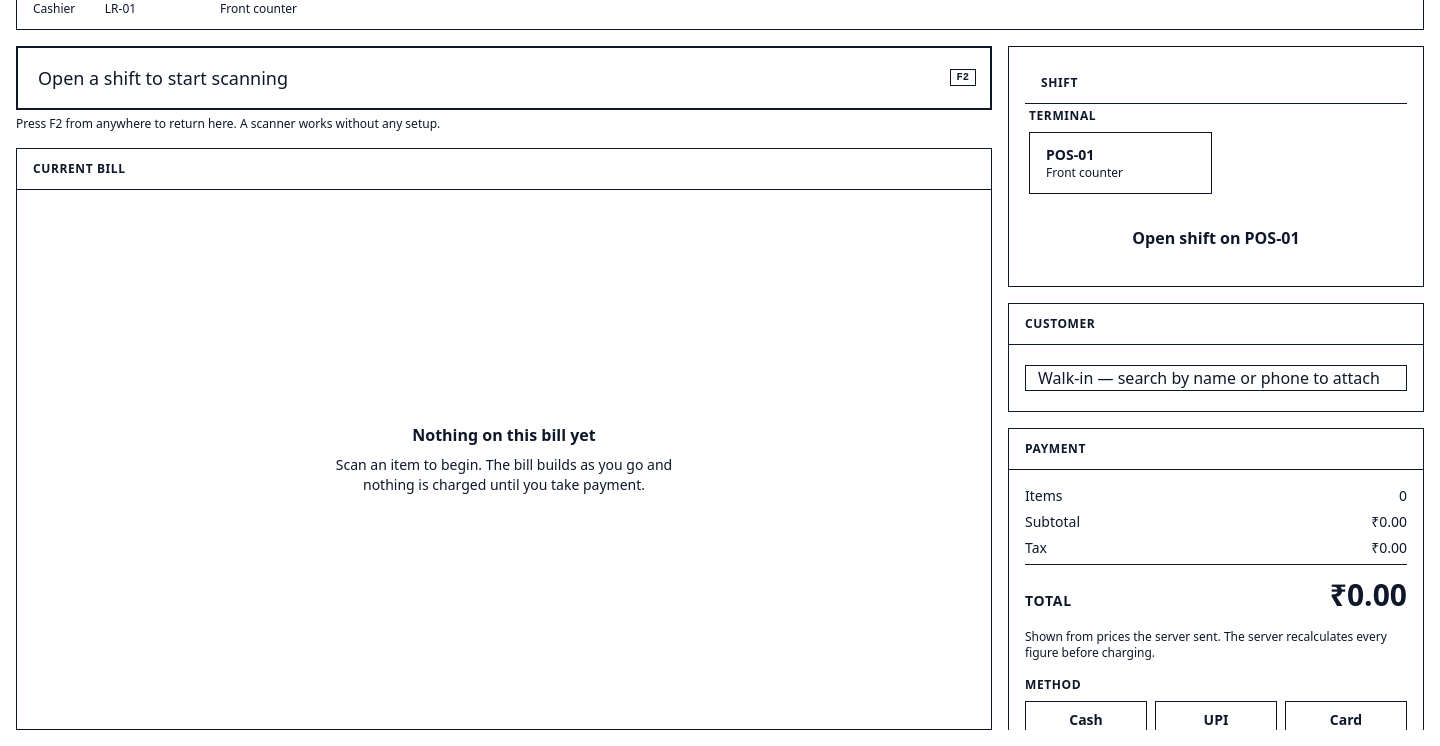
Test: shift states › opens a shift and reports a 201 as a new one
Click the button "Open shift on POS-01": (1216,238) [1029, 210, 1403, 266]
(page scrolled)
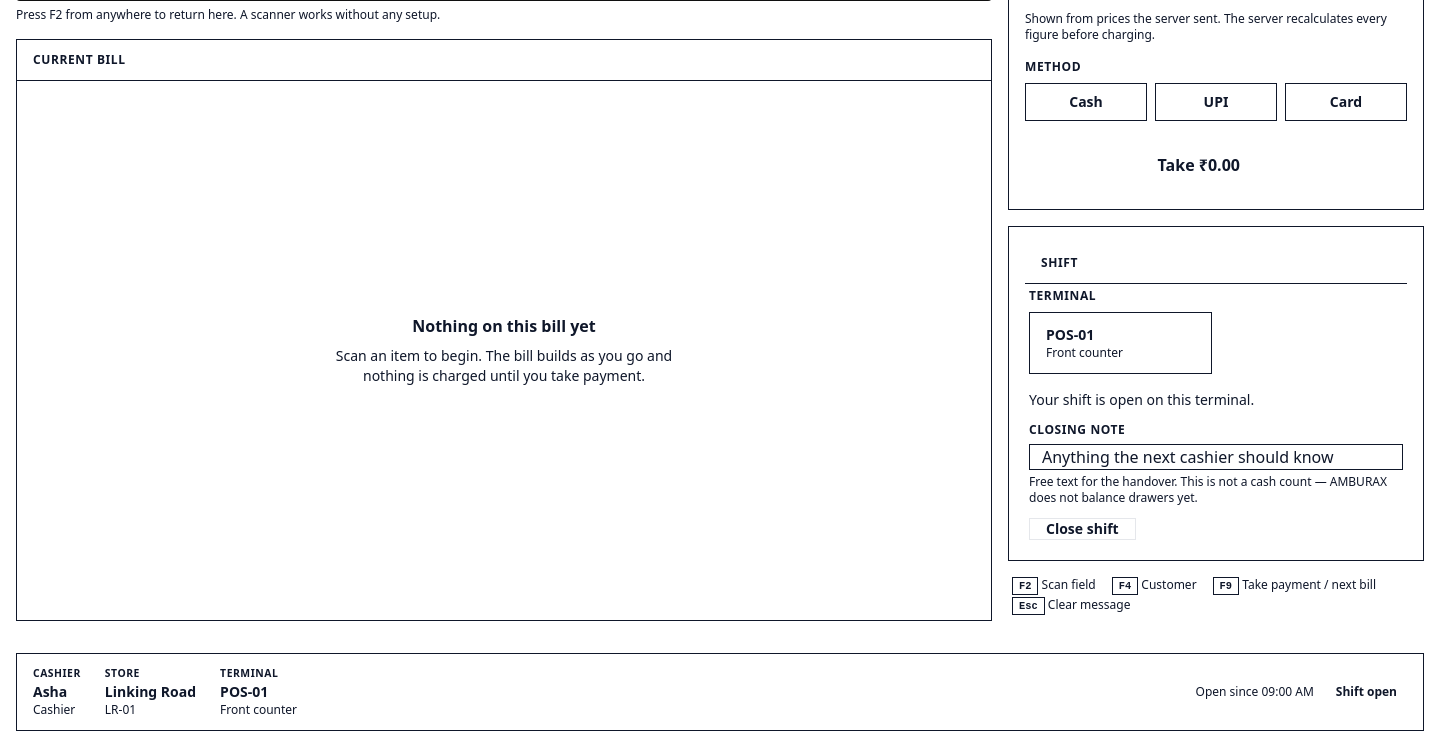
expect the text "Your shift is open on this terminal." is shown: met, box [1029, 390, 1254, 409]
